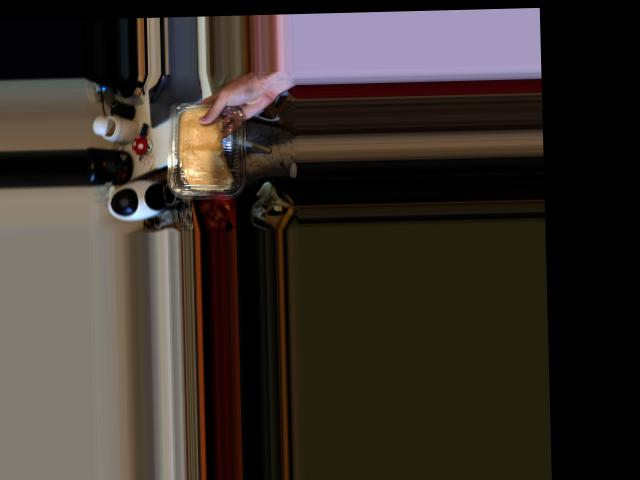cheese: (158, 104, 251, 192)
